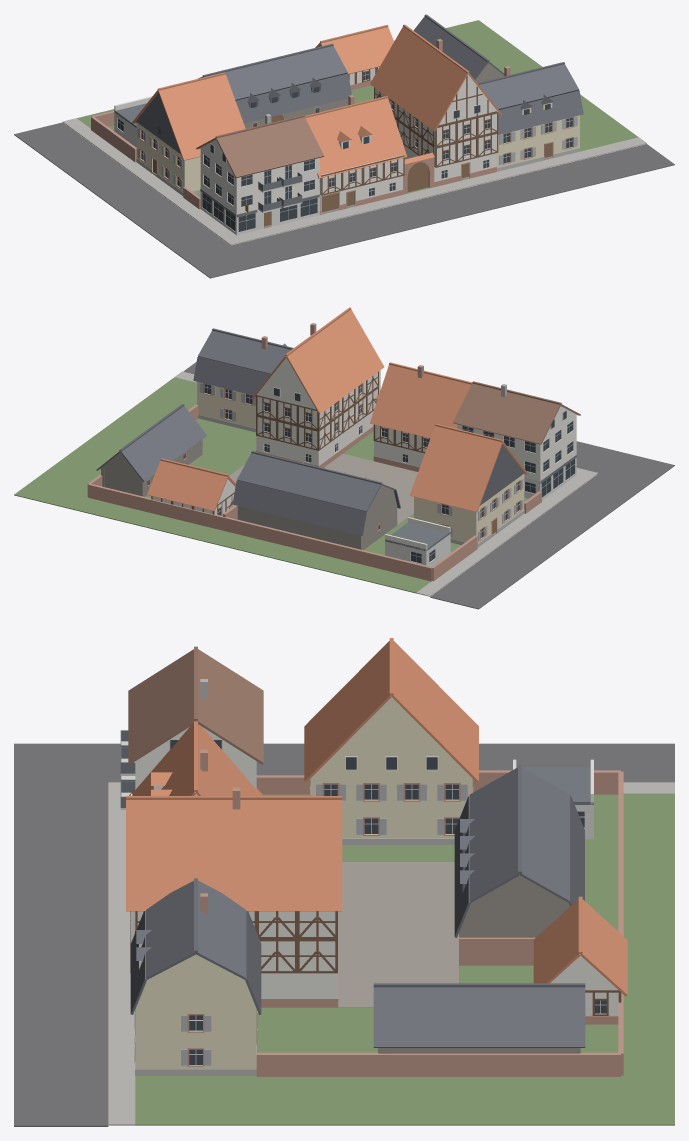
File: wgerman_town_block_1989_lod0.glb
3 views of the same model, one above another, from view 1: azimuth 30°, elevation 25°; view 2: azimuth 150°, elevation 25°; view 3: azimuth 270°, elevation 25° (orthographic). The views are drawn at different scales.
Parts seen in each view (by area): view 1: Ground, Roof_0.005, Roof_0.002, Roof_3.001, Roof_2.005, Roof_2.001, Roof_1.001, Roof_5, Roof_3.003, Roof_1.005, Roof_1.003, Roof_3.004 (+53 smaller); view 2: Ground, Wall_0, Roof_0.005, Roof_2.005, Roof_1.005, Roof_3.001, Roof_0.004, Roof_2.001, Roof_5, Roof_4, Roof_3.003, Roof_1.001 (+38 smaller); view 3: Ground, Wall_2, Attic_2.005, Roof_0.002, Roof_4, Roof_3.002, Roof_2.002, Attic_3.003, Roof_2.005, Attic_5, Roof_1.002, Roof_0.005 (+53 smaller).
Part boxes in pixels (<box>): Ground: <box>14,20,674,278</box>; Roof_0.005: <box>132,83,202,160</box>; Roof_0.002: <box>419,60,502,131</box>; Roof_3.001: <box>364,96,407,162</box>; Roof_2.005: <box>202,72,245,134</box>; Roof_2.001: <box>343,95,383,167</box>; Roof_1.001: <box>322,106,362,172</box>; Roof_5: <box>309,43,351,102</box>; Roof_3.003: <box>541,62,583,119</box>; Roof_1.005: <box>181,78,222,143</box>; Roof_1.003: <box>499,66,539,129</box>; Roof_3.004: <box>268,54,308,112</box>; Ground: <box>14,362,674,609</box>; Wall_0: <box>88,484,432,581</box>; Roof_0.005: <box>454,434,528,512</box>; Roof_2.005: <box>409,423,458,501</box>; Roof_1.005: <box>433,429,479,506</box>; Roof_3.001: <box>370,362,412,428</box>; Roof_0.004: <box>339,477,400,535</box>; Roof_2.001: <box>393,365,433,434</box>; Roof_5: <box>232,451,275,509</box>; Roof_4: <box>252,344,333,414</box>; Roof_3.003: <box>193,328,235,386</box>; Roof_1.001: <box>414,373,454,438</box>; Ground: <box>14,743,674,1126</box>; Wall_2: <box>256,1052,620,1076</box>; Attic_2.005: <box>313,697,469,776</box>; Roof_0.002: <box>126,796,175,911</box>; Roof_4: <box>297,796,342,911</box>; Roof_3.002: <box>256,796,297,911</box>; Roof_2.002: <box>216,787,256,911</box>; Attic_3.003: <box>136,954,255,1007</box>; Roof_2.005: <box>304,674,478,782</box>; Attic_5: <box>460,875,569,930</box>; Roof_1.002: <box>176,796,216,889</box>; Roof_0.005: <box>304,638,478,744</box>.
Bounding box in the file's own units: 67 × 16.25 × 49.
